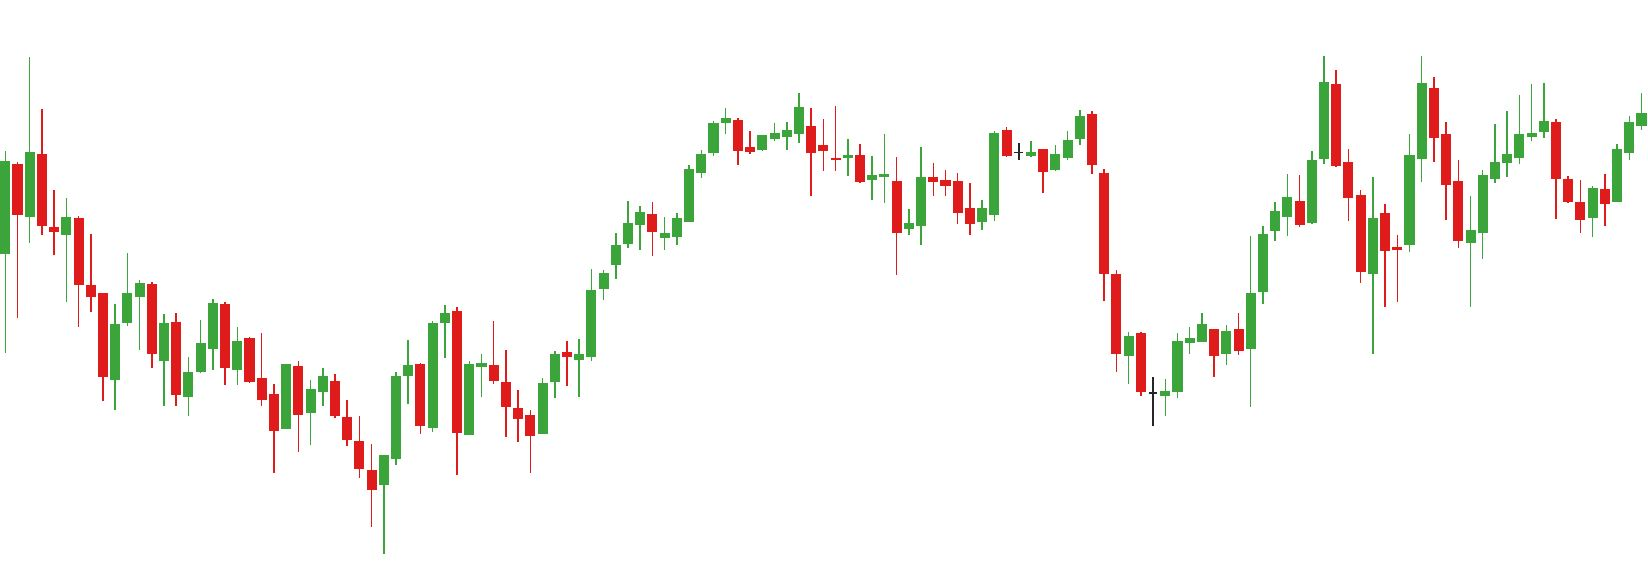buy: (266, 391, 390, 552)
sell: (996, 109, 1099, 178)
